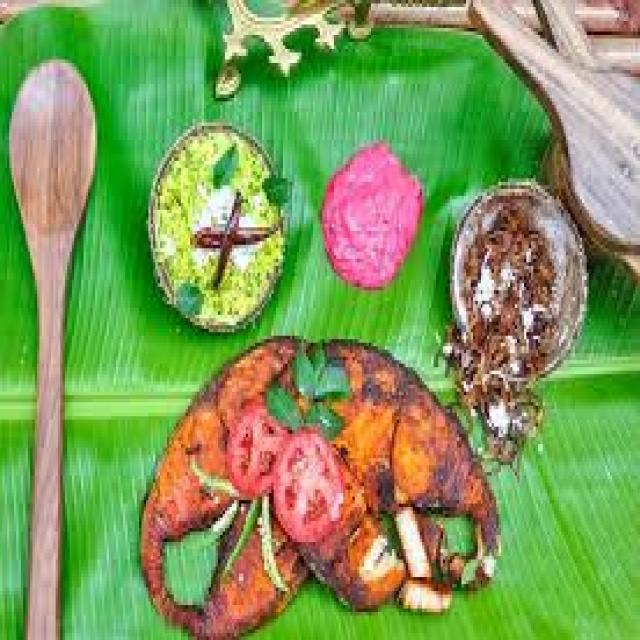rice: (312, 140, 434, 296)
sambar-rasam: (443, 174, 590, 397)
